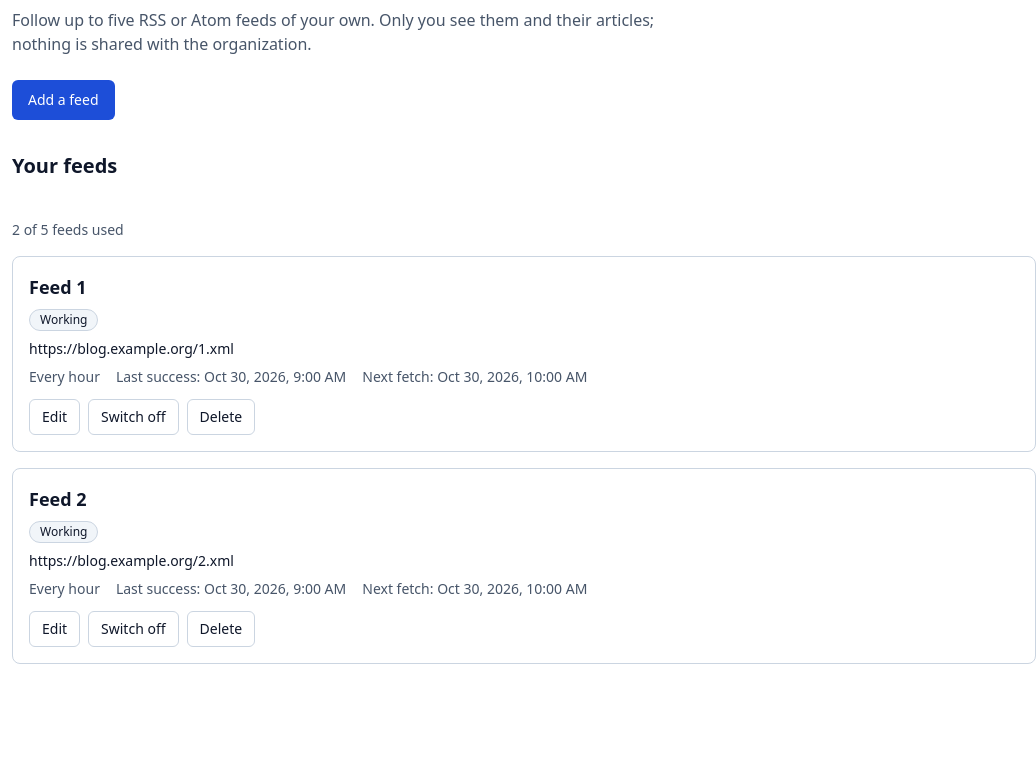
Test case: switching on and off › sends the change with the CSRF token, reloads, says so and returns focus to the list
Click the button "Switch off" below "https://blog.example.org/1.xml".
click(133, 417)  # box [88,399,179,435]
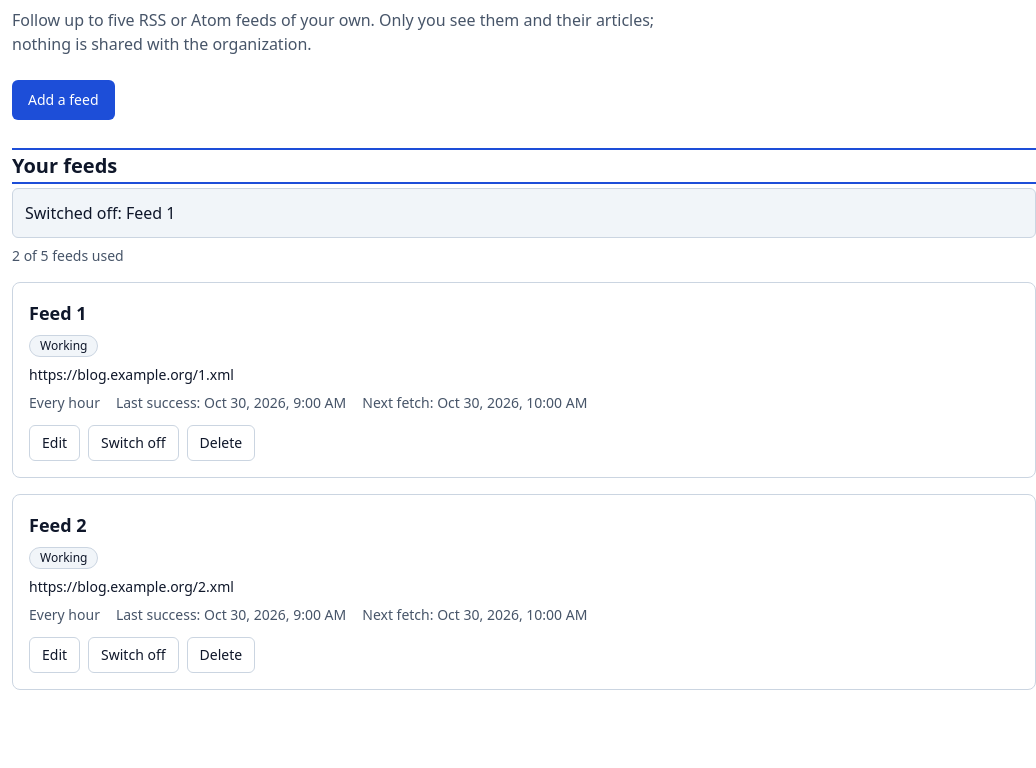
Expected: the message reads "Switched off: Feed 1", [25,202,176,224]
